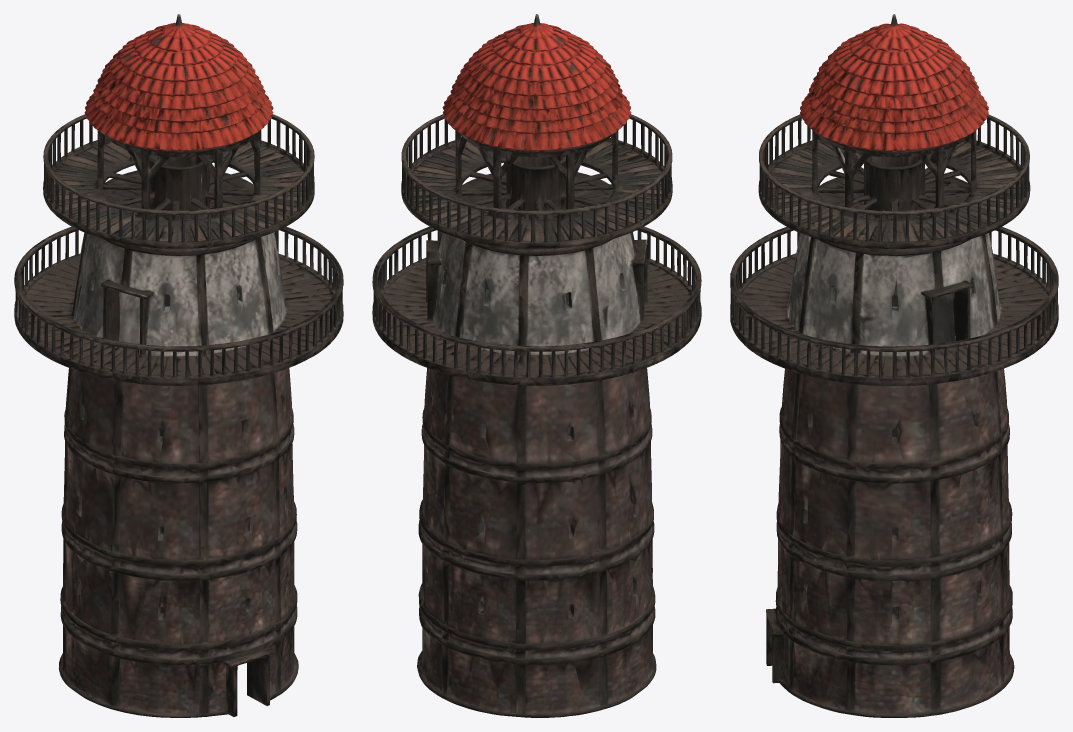
The model's file is lighthouse.glb.
3 renders of one model, left to right at view 1: azimuth 30°, elevation 25°; view 2: azimuth 150°, elevation 25°; view 3: azimuth 270°, elevation 25°, orthographic.
Visible parts, largest first — view 1: lighthouse; view 2: lighthouse; view 3: lighthouse.
Part boxes in pixels (box(x1,y1,x2,y2)): lighthouse: box(14, 14, 343, 717); lighthouse: box(372, 14, 701, 717); lighthouse: box(730, 14, 1058, 717).
Size of the model in its own units: 0.8664 by 1.91 by 0.8657.
1 material, 1 textured.
